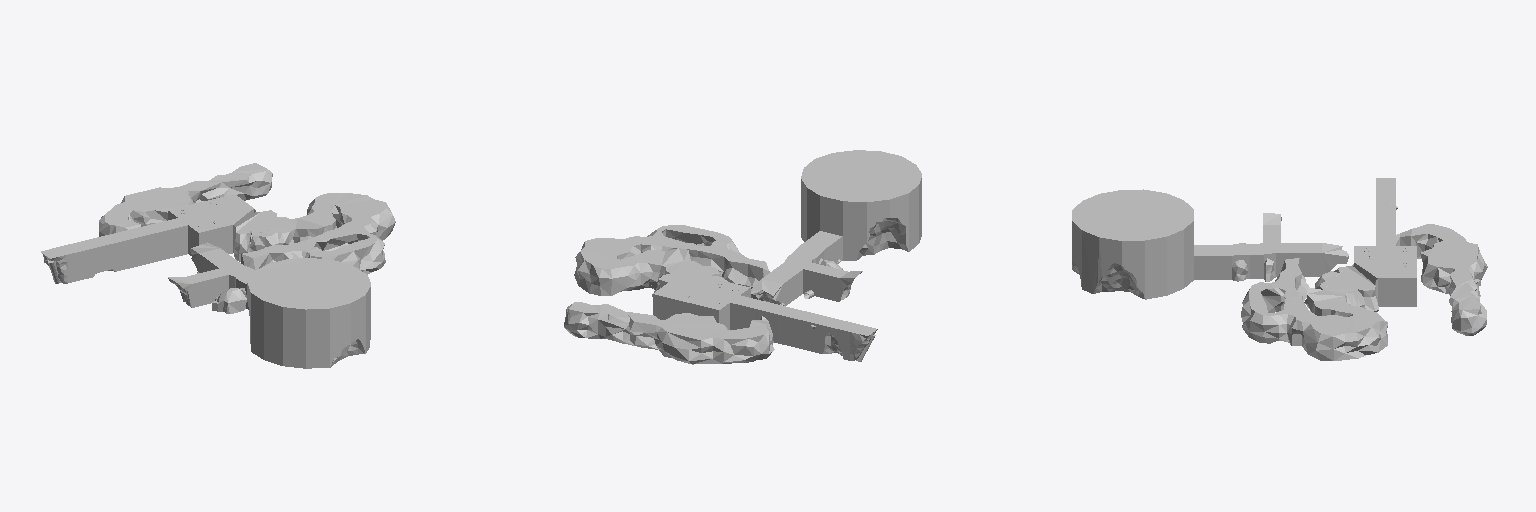
3 renders of one model, left to right at view 1: azimuth 30°, elevation 25°; view 2: azimuth 150°, elevation 25°; view 3: azimuth 270°, elevation 25°, orthographic.
Parts seen in each view (by area): view 1: Plane.002_Plane.004, Plane; view 2: Plane.002_Plane.004, Plane; view 3: Plane.002_Plane.004, Plane.
Part boxes in pixels (bbox=[...]): Plane.002_Plane.004: bbox=[41, 194, 370, 368]; Plane: bbox=[42, 163, 395, 367]; Plane.002_Plane.004: bbox=[653, 150, 921, 360]; Plane: bbox=[564, 218, 908, 364]; Plane.002_Plane.004: bbox=[1072, 178, 1416, 306]; Plane: bbox=[1072, 224, 1487, 360].
Size of the model in its own units: 0.4072 by 0.0764 by 0.4644.